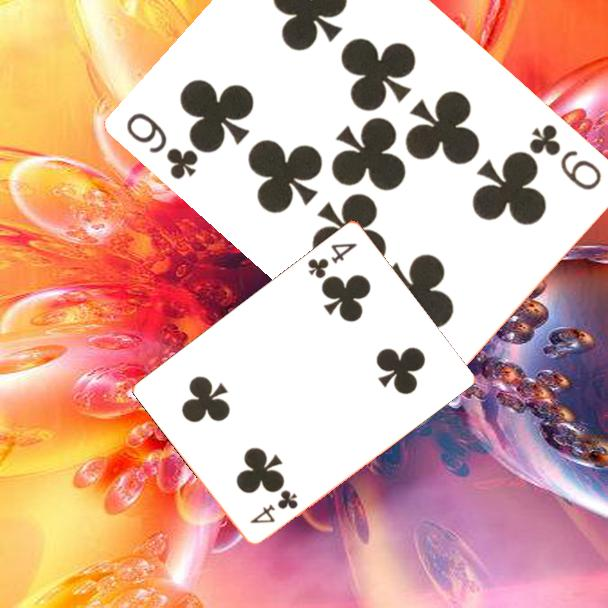c04: (304, 239, 360, 281), (246, 486, 301, 526)
c09: (526, 120, 606, 194), (123, 109, 202, 183)
